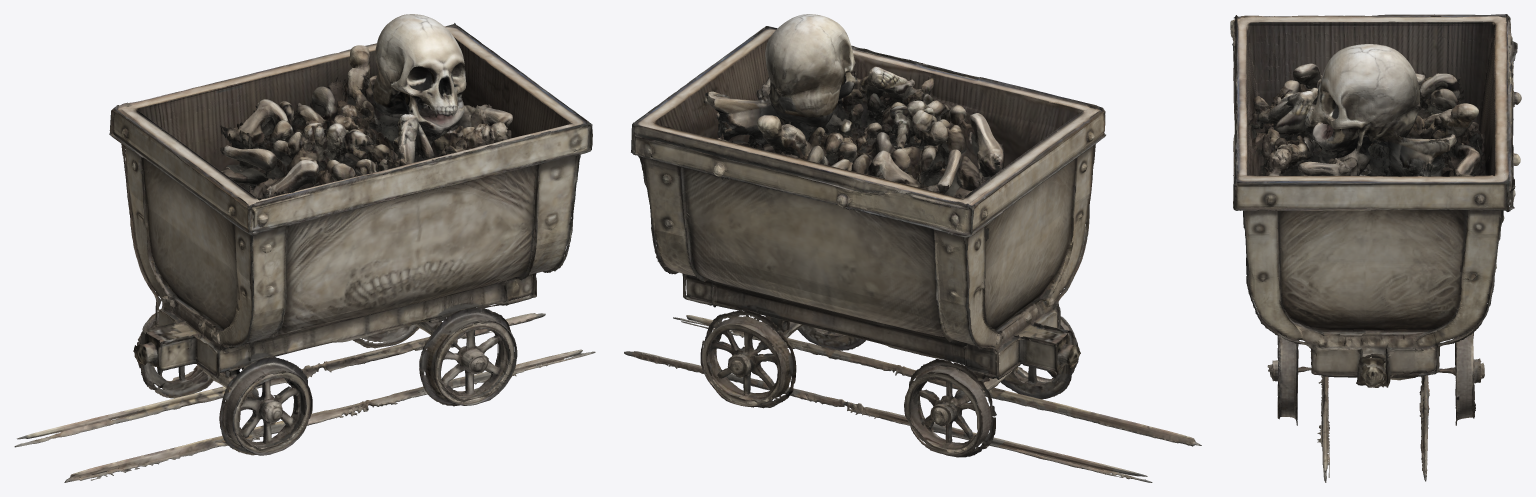
File: Bones_on_the_Tracks_0622175010_texture.fbx
3 views of the same model, side by side, from view 1: azimuth 30°, elevation 25°; view 2: azimuth 150°, elevation 25°; view 3: azimuth 270°, elevation 25° (orthographic).
Visible parts, largest first — view 1: temp; view 2: temp; view 3: temp.
Boxes of the visible parts, x1=… form: temp: x1=14, y1=14, x2=595, y2=482; temp: x1=624, y1=14, x2=1201, y2=482; temp: x1=1230, y1=14, x2=1521, y2=482.
Size of the model in its own units: 198 by 129 by 93.33.
1 material, 1 textured.
